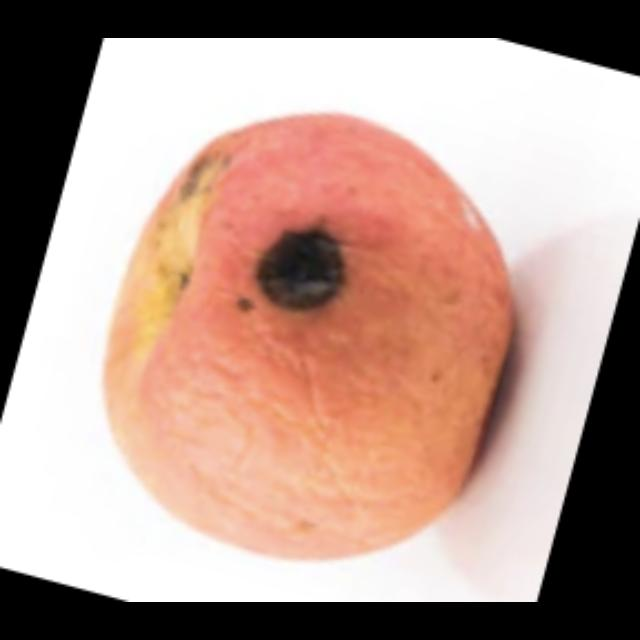Apel Tidak Segar: (106, 111, 518, 559)
